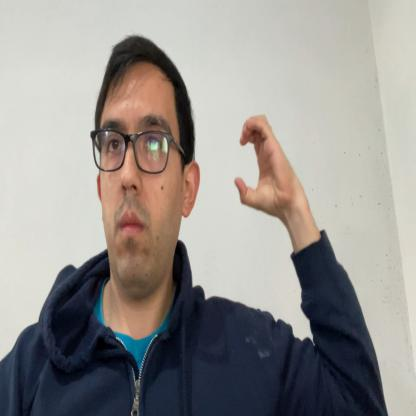C: (235, 114, 288, 216)
